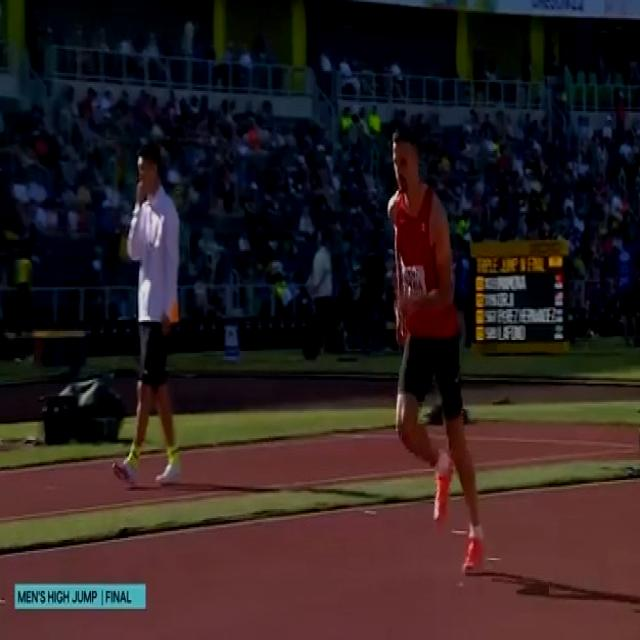run: (388, 122, 490, 574)
